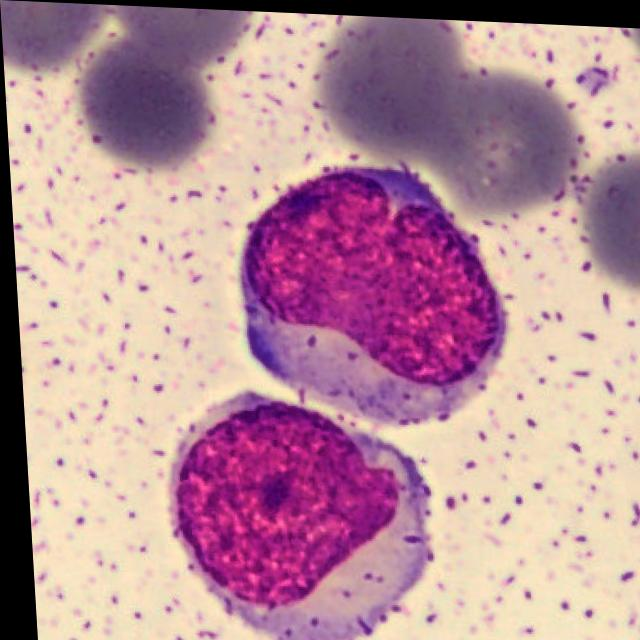Mieloblasto: (236, 166, 501, 423), (163, 390, 420, 640)
